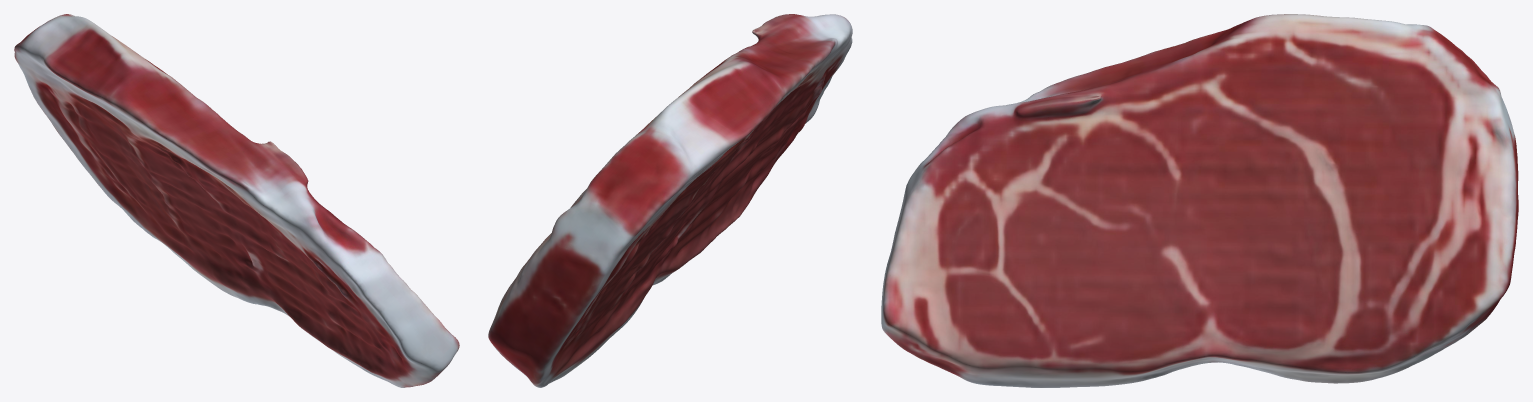
Rendered from steak.glb.
3 renders of one model, left to right at view 1: azimuth 30°, elevation 25°; view 2: azimuth 150°, elevation 25°; view 3: azimuth 270°, elevation 25°, orthographic. The views are drawn at different scales.
Visible parts, largest first — view 1: high_poly_0; view 2: high_poly_0; view 3: high_poly_0.
Boxes of the visible parts, <box> form: high_poly_0: <box>14,14,459,387</box>; high_poly_0: <box>488,14,852,387</box>; high_poly_0: <box>881,14,1518,387</box>.
Size of the model in its own units: 0.422 by 0.5301 by 1.
Materials: 1 (1 with a texture image).
